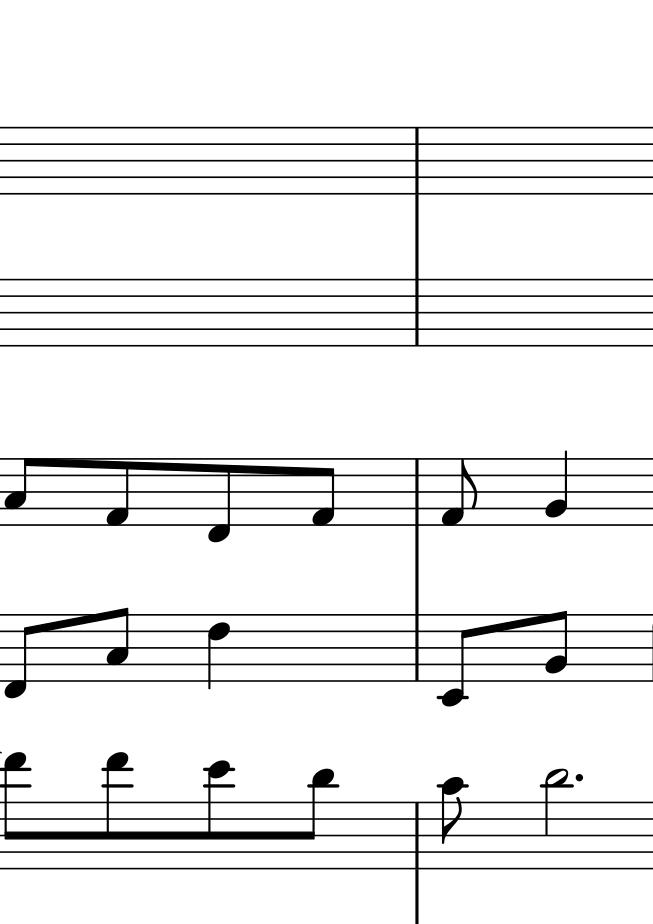2_11: (542, 768, 571, 873)
4_2: (544, 449, 571, 528)
4_6: (206, 612, 230, 690)
8_-1: (3, 612, 34, 699), (205, 456, 233, 545)
8_-2: (437, 613, 473, 707)
8_1: (440, 457, 480, 527), (103, 456, 132, 529), (310, 456, 337, 529)
8_10: (439, 776, 467, 871)
8_11: (298, 766, 335, 872)
8_12: (203, 758, 234, 873)
8_13: (100, 751, 132, 872), (1, 750, 31, 872)
8_2: (545, 608, 570, 684)
8_3: (3, 456, 36, 527), (104, 605, 131, 683)
Single_barline: (408, 804, 425, 870), (409, 615, 426, 680), (409, 129, 425, 193), (409, 280, 424, 344)
dot: (572, 771, 586, 786)
